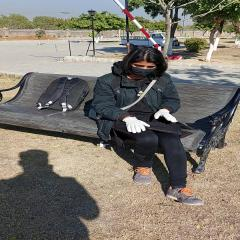gloved: (123, 118, 149, 132), (156, 109, 178, 123)
